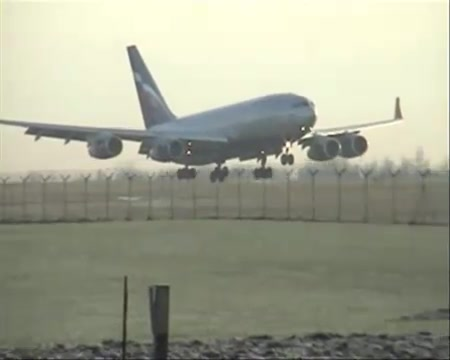aeroplane: (2, 45, 408, 184)
